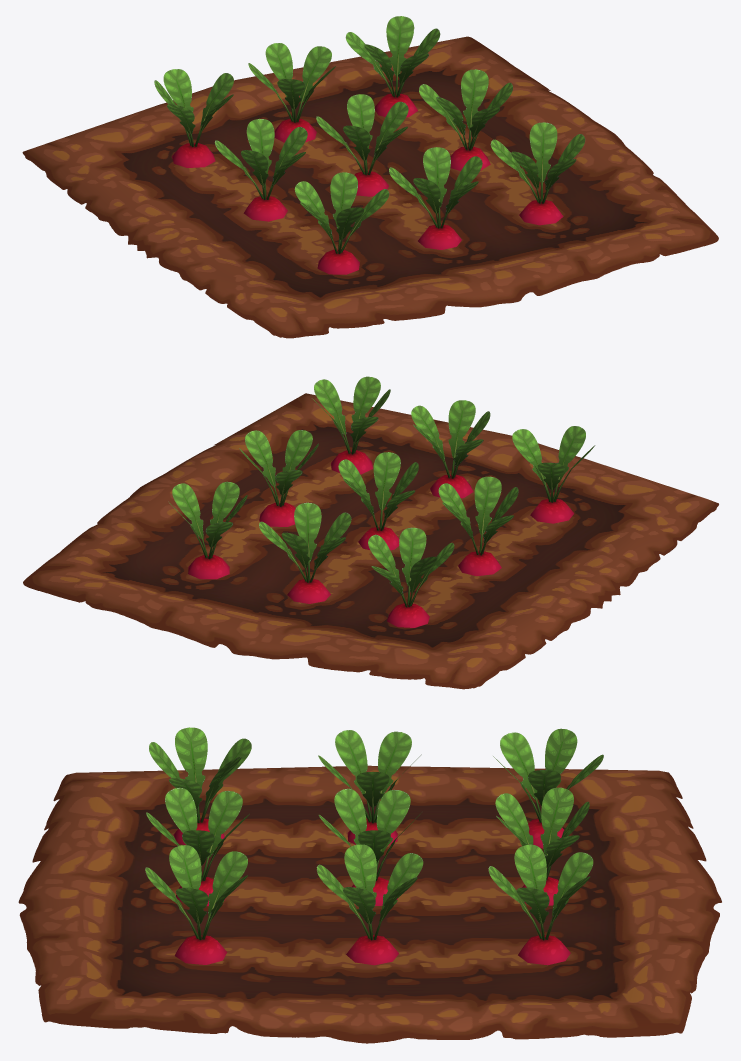
The model's file is Radish_Field_Lv2.FBX.
3 views of the same model, one above another, from view 1: azimuth 30°, elevation 25°; view 2: azimuth 150°, elevation 25°; view 3: azimuth 270°, elevation 25° (orthographic). The views are drawn at different scales.
Visible parts, largest first — view 1: Radish_Field_Lv2; view 2: Radish_Field_Lv2; view 3: Radish_Field_Lv2.
Boxes of the visible parts, box(x1,y1,x2,y2) form: Radish_Field_Lv2: box(22, 16, 718, 338); Radish_Field_Lv2: box(23, 376, 718, 689); Radish_Field_Lv2: box(18, 727, 721, 1043).
Bounding box in the file's own units: 274 × 67.7 × 296.
